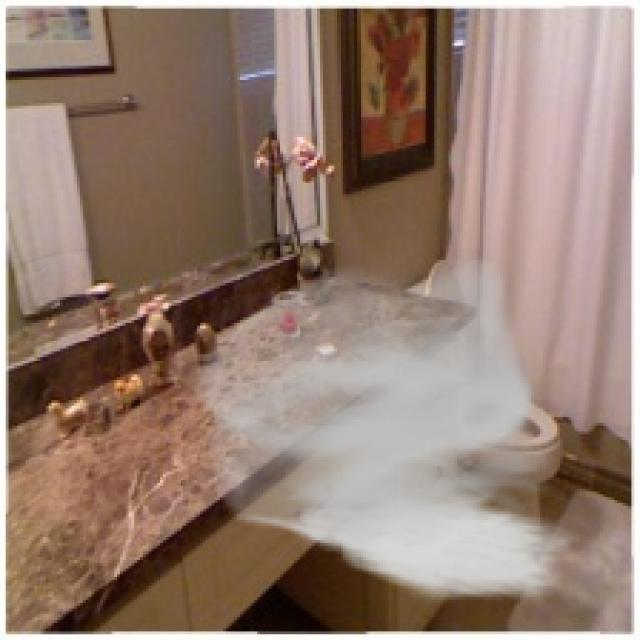smoke: (183, 257, 580, 606)
